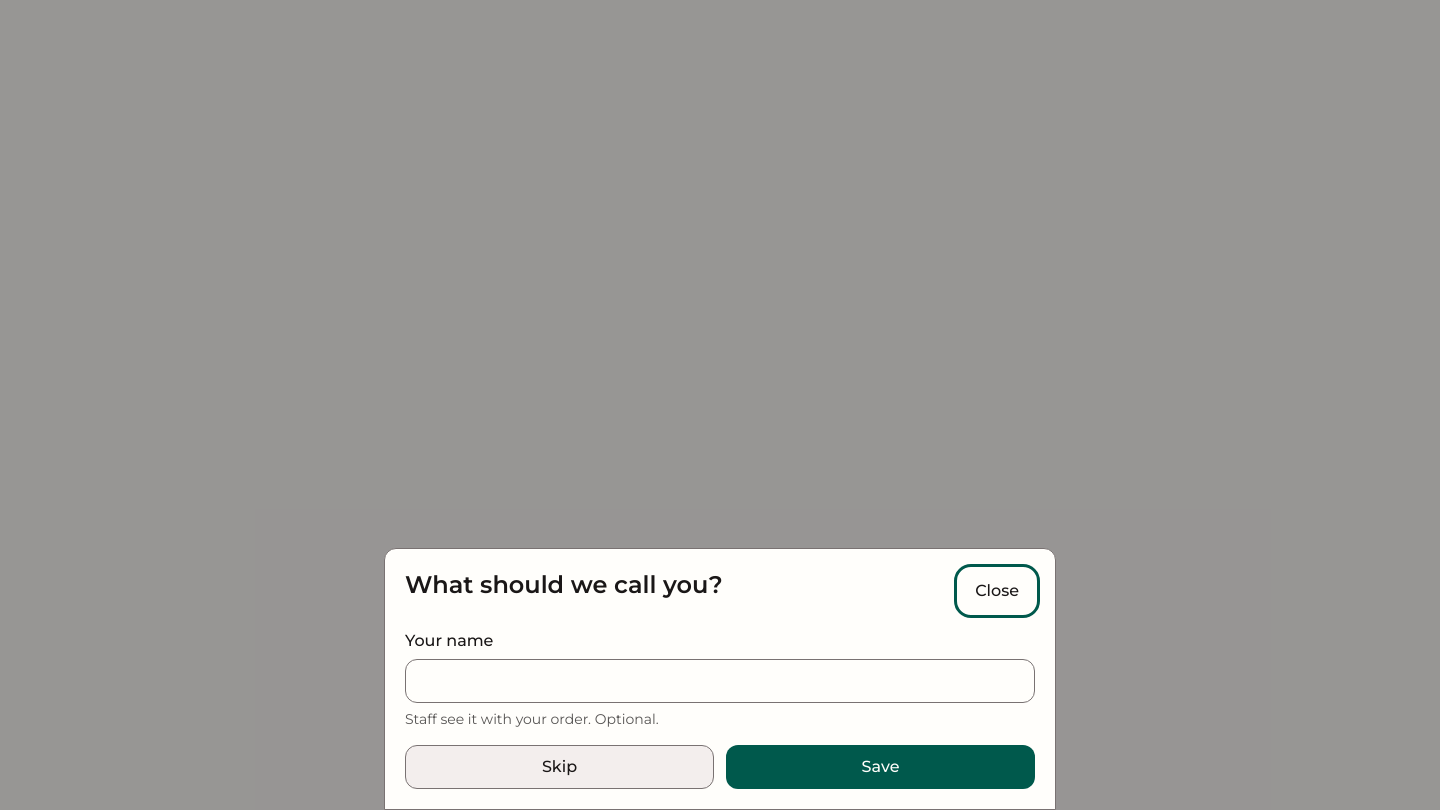
Test: NameSheet › keeps the sheet open with a message when the connection drops
Type "Ari" into the field labelled "Your name" at x=720, y=681, box [405,659,1035,703]
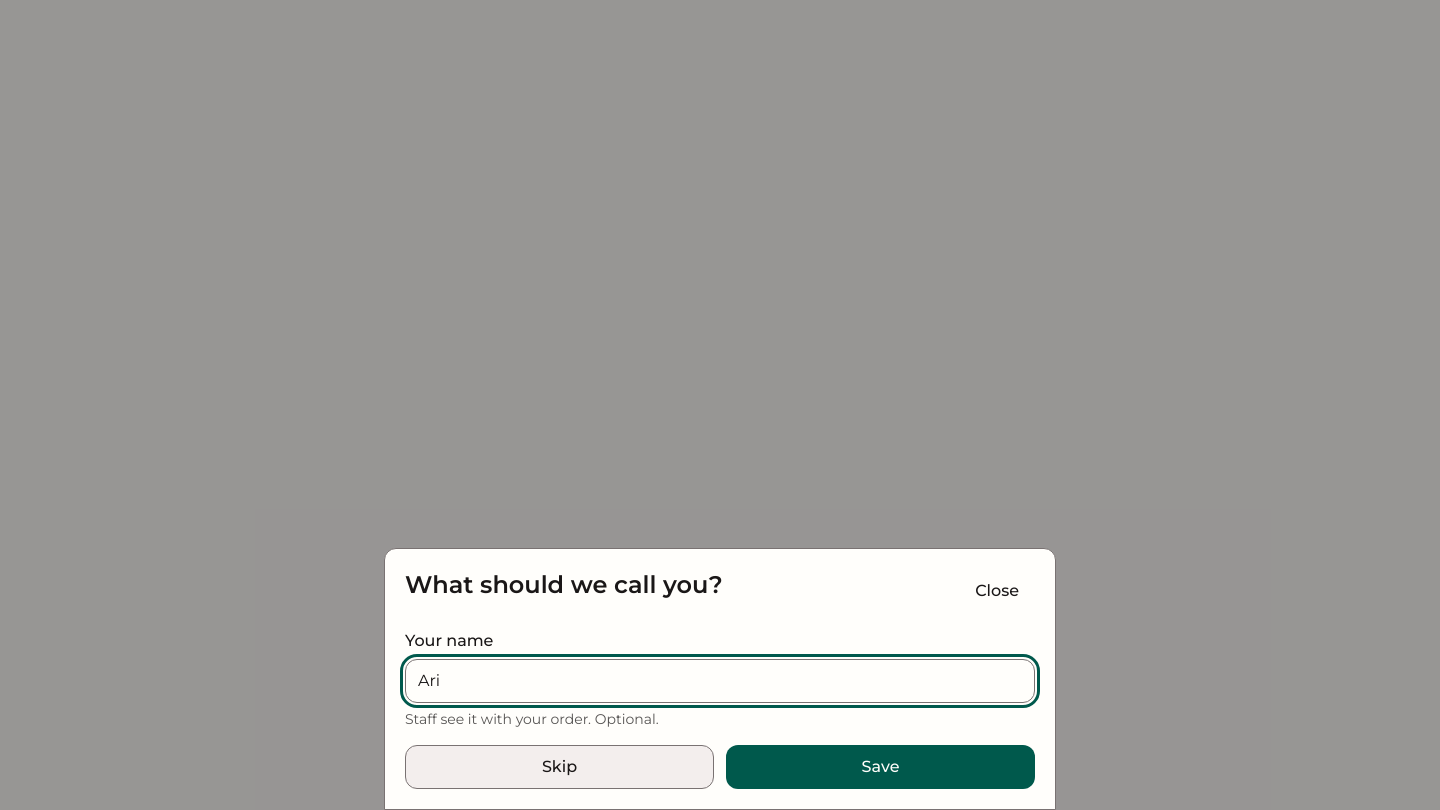
Click the button "Save" at x=880, y=767, box [726,745,1035,789]
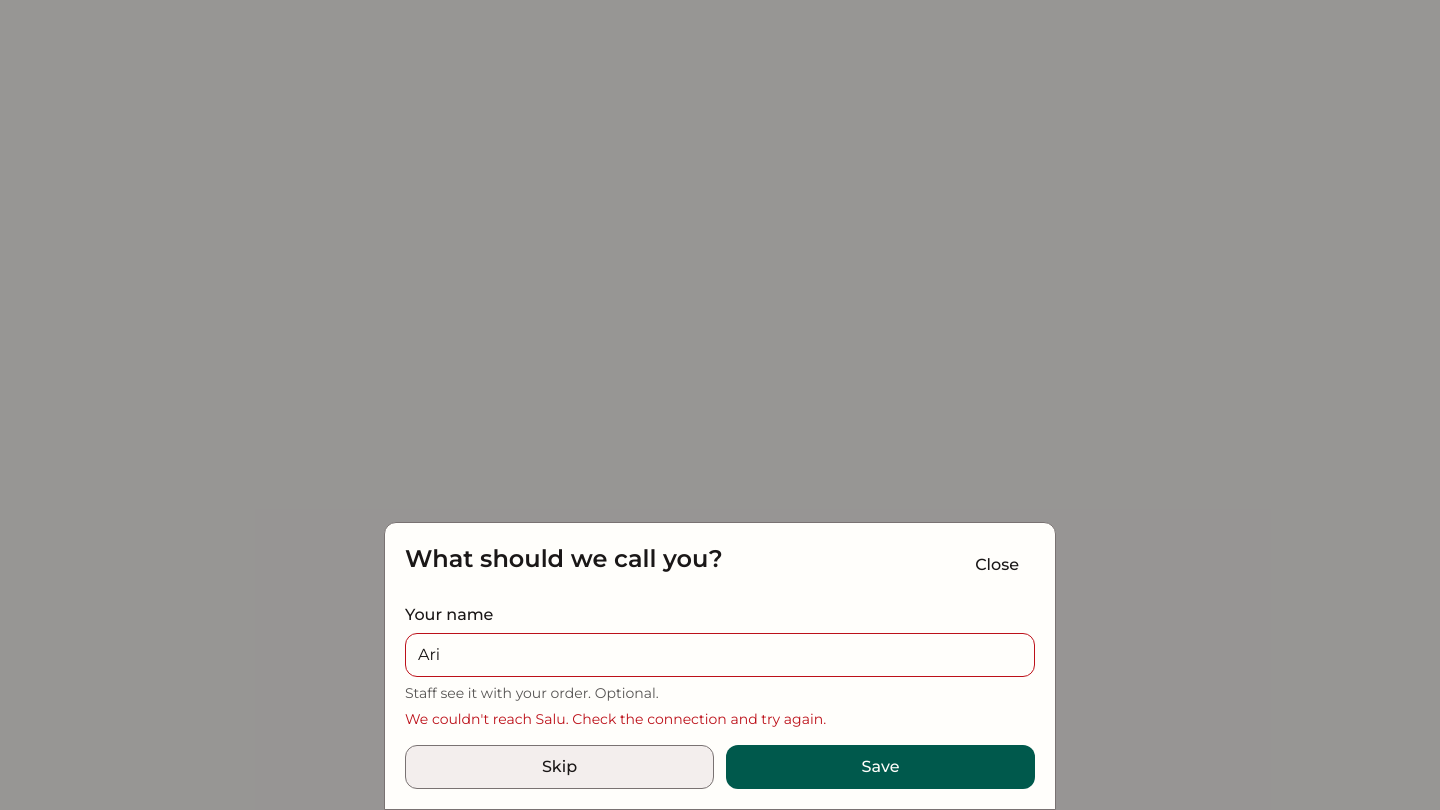
Expected: the dialog "What should we call you?" is shown, [384,522,1056,809]
Result: the text "We couldn't reach Salu. Check the connection and try again." is shown at [405,710,826,728]
